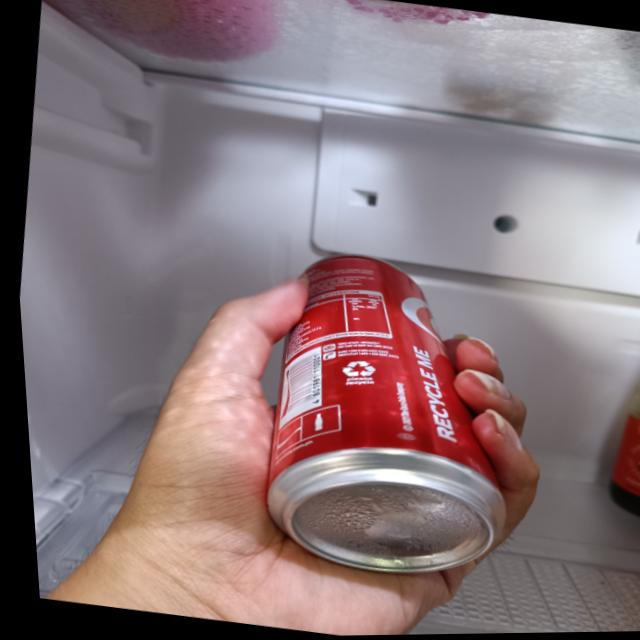coke: (239, 241, 534, 573)
